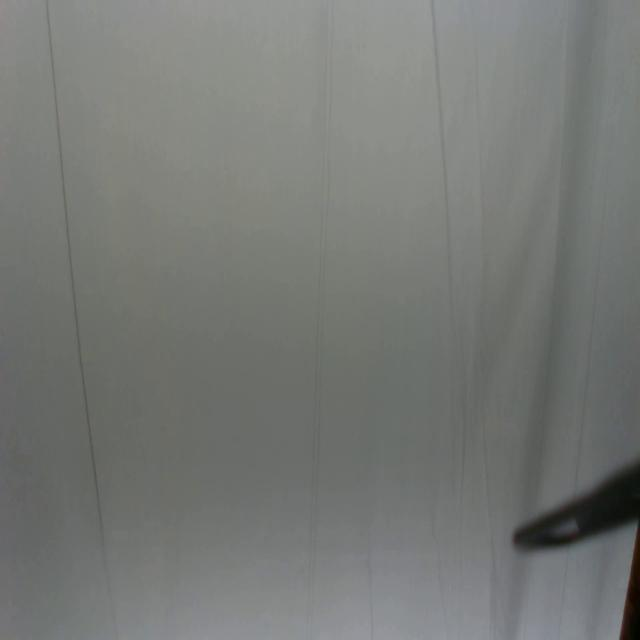crease: (44, 1, 114, 623), (306, 0, 338, 632), (426, 0, 458, 331), (572, 194, 608, 469), (480, 396, 500, 638), (366, 547, 375, 637)
